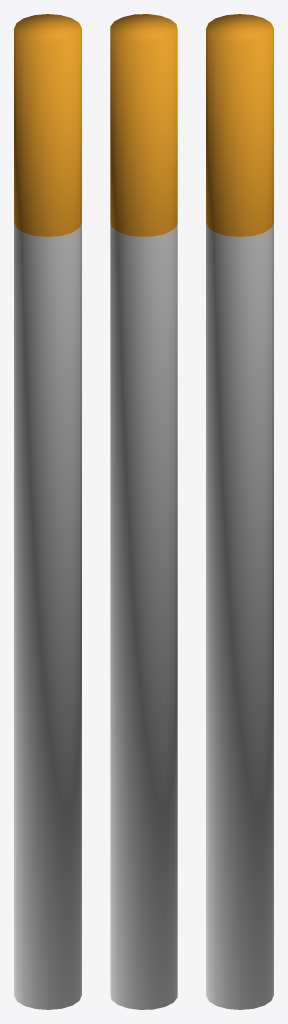
The model's file is szlug.fbx.
3 views of the same model, side by side, from view 1: azimuth 90°, elevation 25°; view 2: azimuth 150°, elevation 25°; view 3: azimuth 270°, elevation 25° (orthographic).
Parts seen in each view (by area): view 1: Plane; view 2: Plane; view 3: Plane.
Part boxes in pixels (x1,y1,x2,y2): Plane: (14,14,81,1009); Plane: (110,14,177,1009); Plane: (206,14,273,1009).
Bounding box in the file's own units: 0.7933 × 12.51 × 0.7933.
